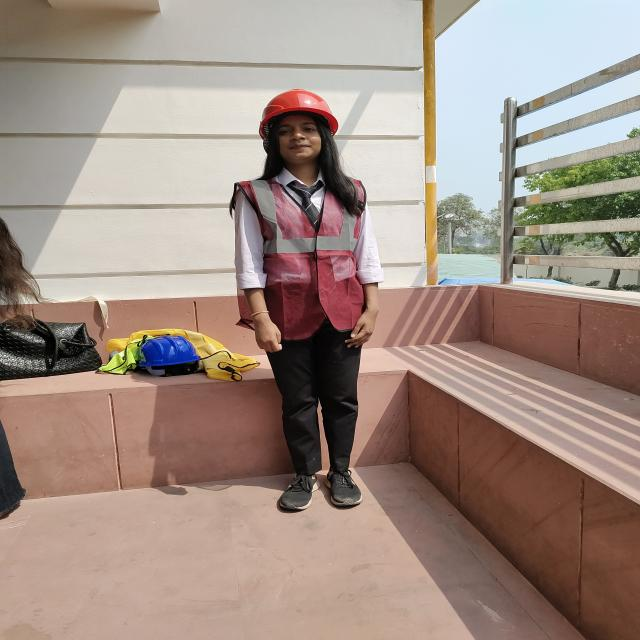safe: (229, 89, 378, 509)
